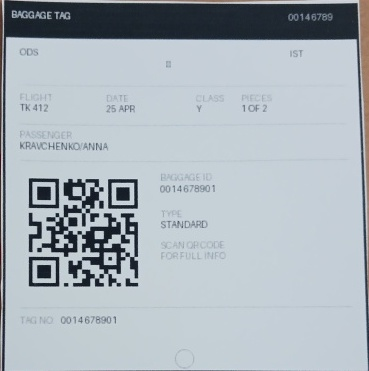LPN_bottom: (57, 312, 120, 325)
LPN_right: (158, 183, 218, 194)
